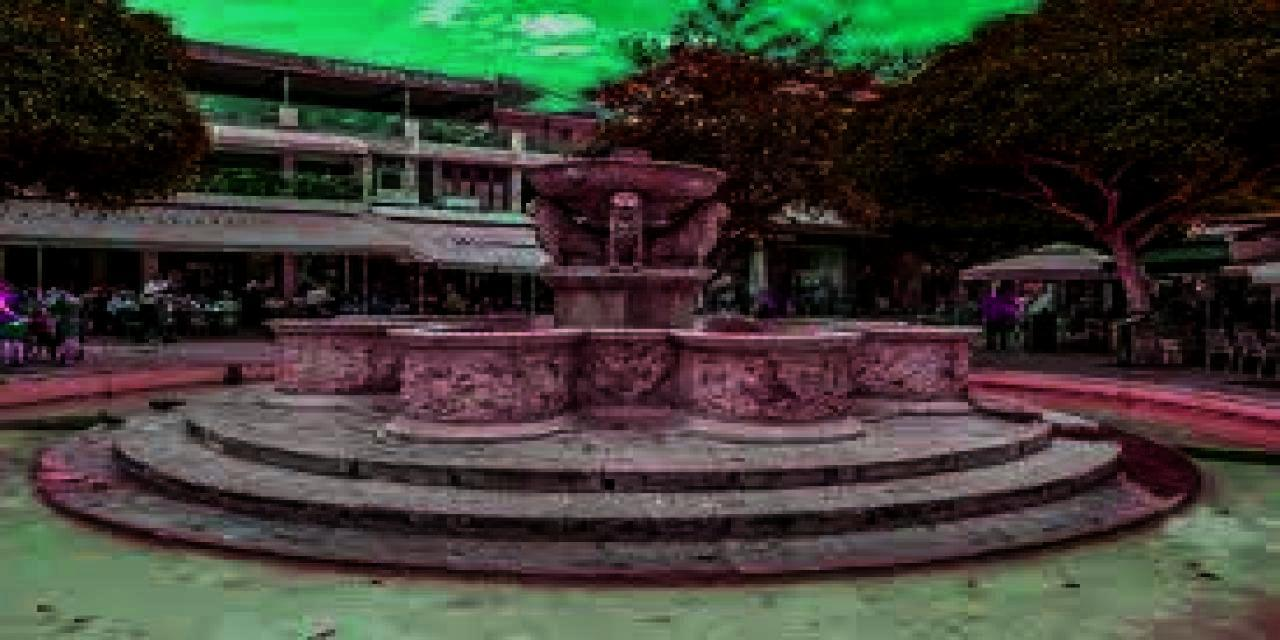Liontaria: (246, 163, 983, 449)
